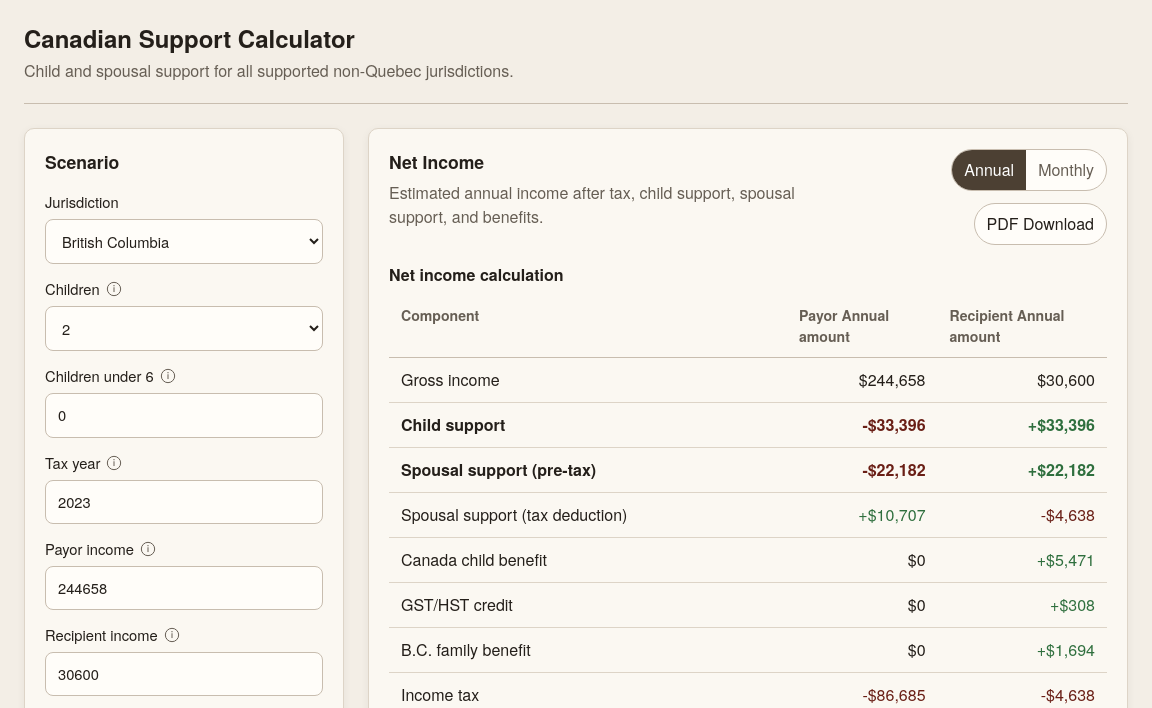
Test case: App › allows editing gross income directly from the net income table
This screenshot has width=1152, height=708.
Double-click the button "$244,658" at (862, 380), box 799,368 -> 926,392
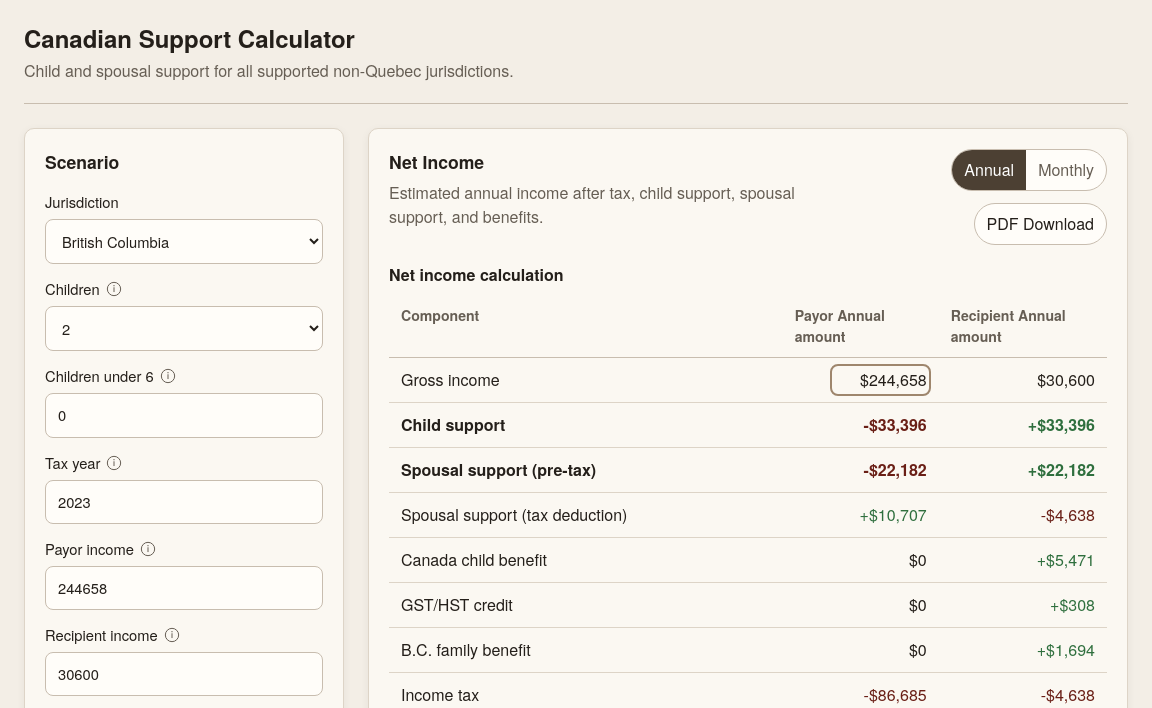
Replace the text in the field named "Edit payor gross income" with "$250000.6abc-" at (880, 380), box 834,368 -> 927,392
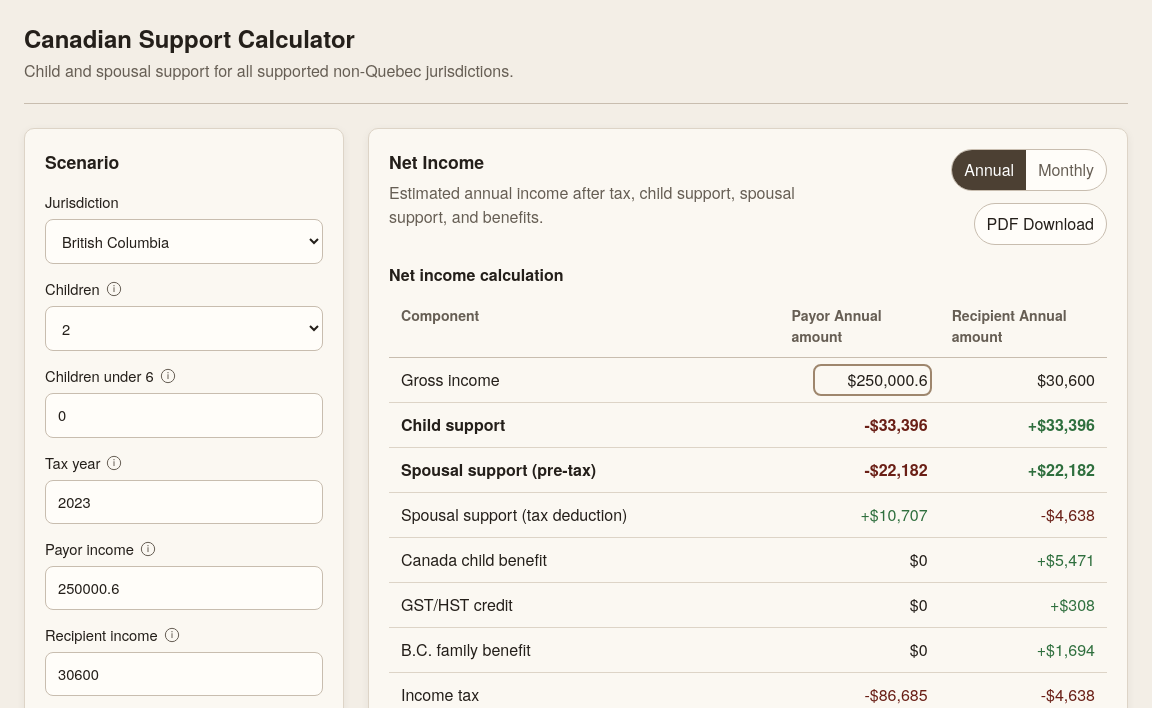
Expected: the field named "Edit payor gross income" holds "$250,000.6"
Expected: the number field labelled "Payor income" holds "250000.6", 45,566 -> 323,610
Press Enter in the field named "Edit payor gross income", box 817,368 -> 928,392
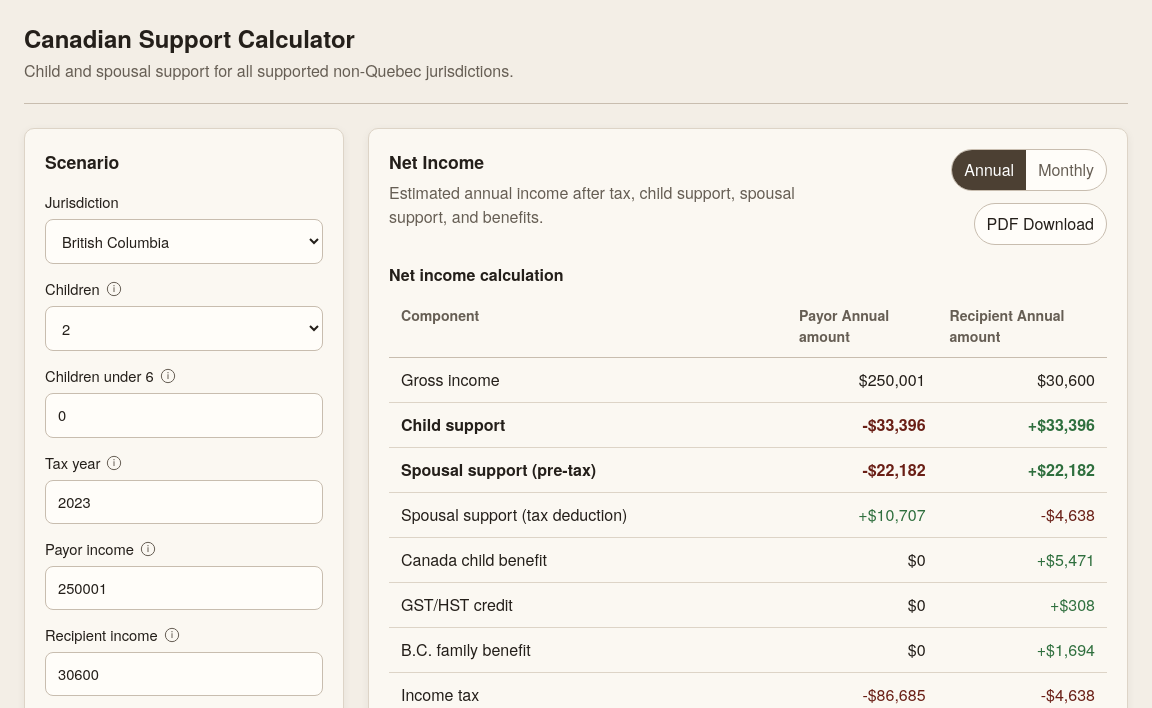
Expected: the number field labelled "Payor income" holds "250001", 45,566 -> 323,610
Expected: the text "$250,001" is shown, 859,368 -> 926,391
